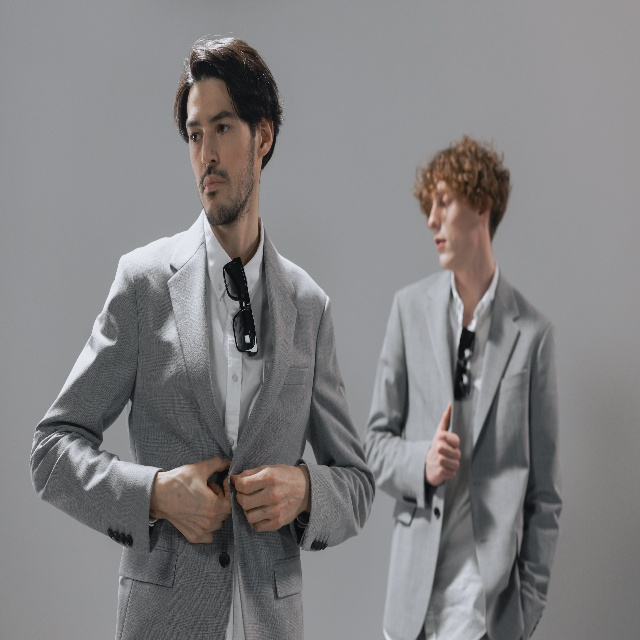Gafas: (223, 256, 258, 356), (453, 327, 474, 400)
Sin_guantes: (155, 456, 231, 545), (230, 463, 309, 533), (425, 401, 461, 487)
